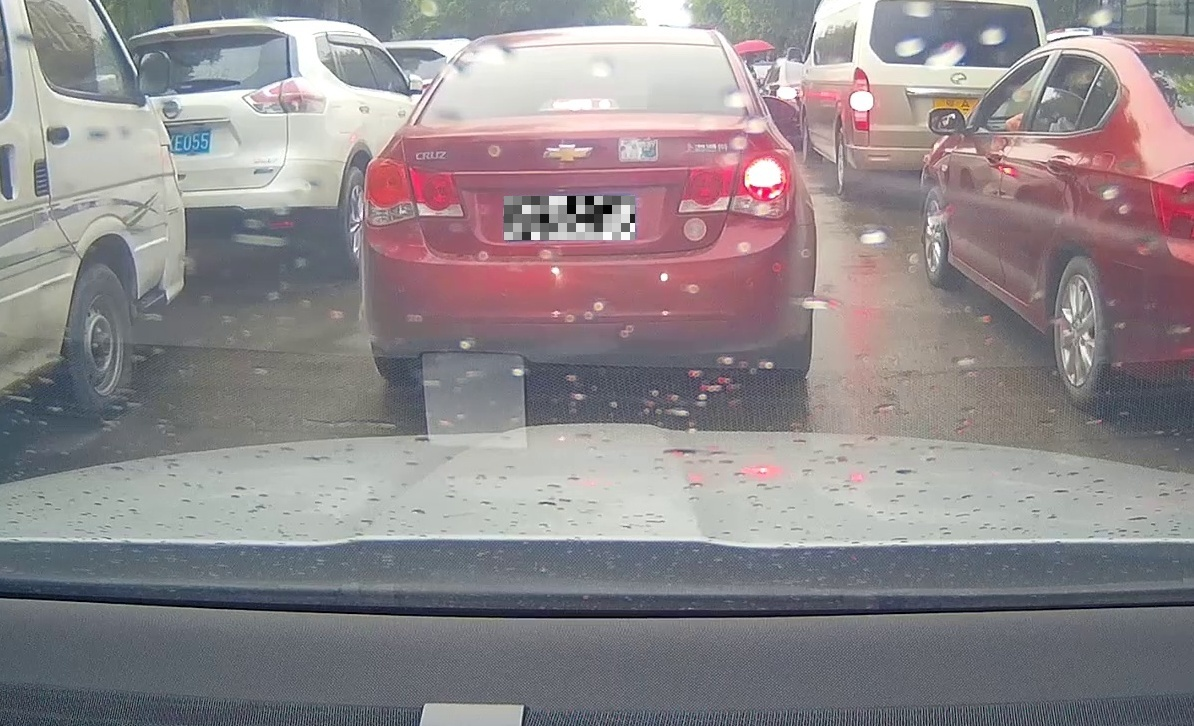L_light: (364, 157, 466, 228)
R_light: (676, 148, 796, 220)
T_light: (540, 98, 620, 113)
day-right: (359, 25, 817, 390)
plate_1: (504, 196, 635, 240)
